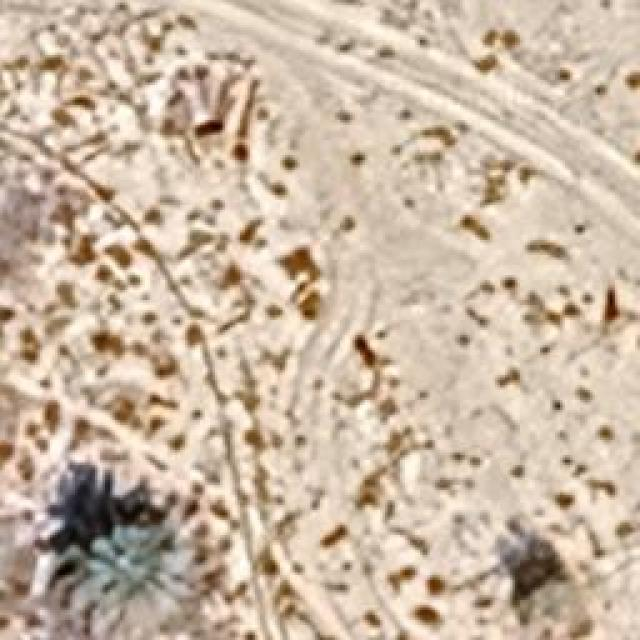PalmTree: (85, 524, 193, 618)
